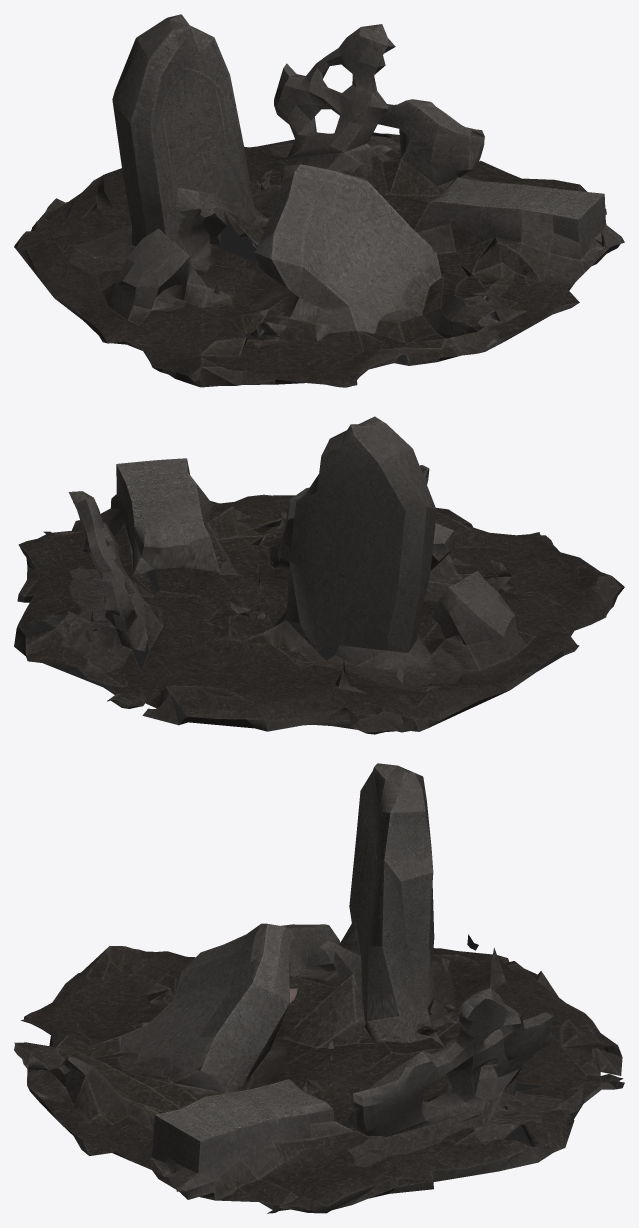
Rendered from b6-stonefrags.glb.
The picture shows the model from 3 angles, top to bottom: view 1: azimuth 30°, elevation 25°; view 2: azimuth 150°, elevation 25°; view 3: azimuth 270°, elevation 25°; orthographic projection. The views are drawn at different scales.
Size of the model in its own units: 1.71 by 0.7785 by 1.66.
1 material, 1 textured.
